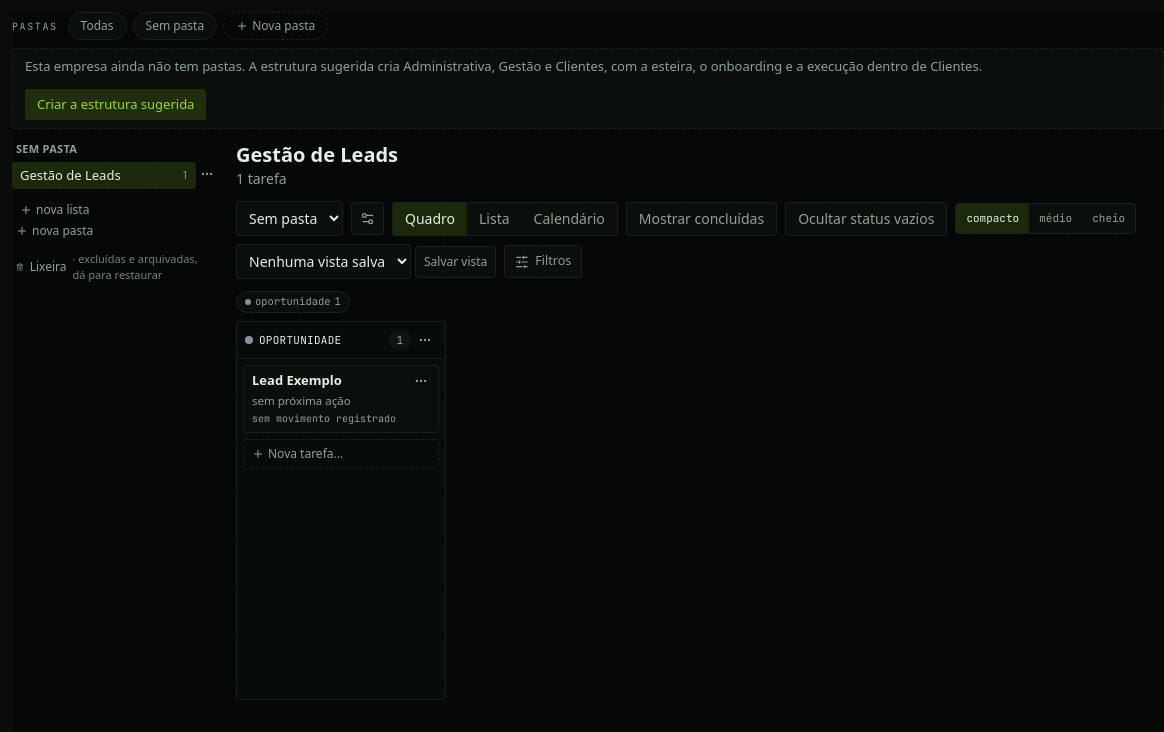
campo moeda: o que aparece › a tabela mostra R$ 1.500,00, com espaço sem quebra depois do símbolo
Step 1. Click the button "Lista" → (494, 218), box [467,202,522,234]
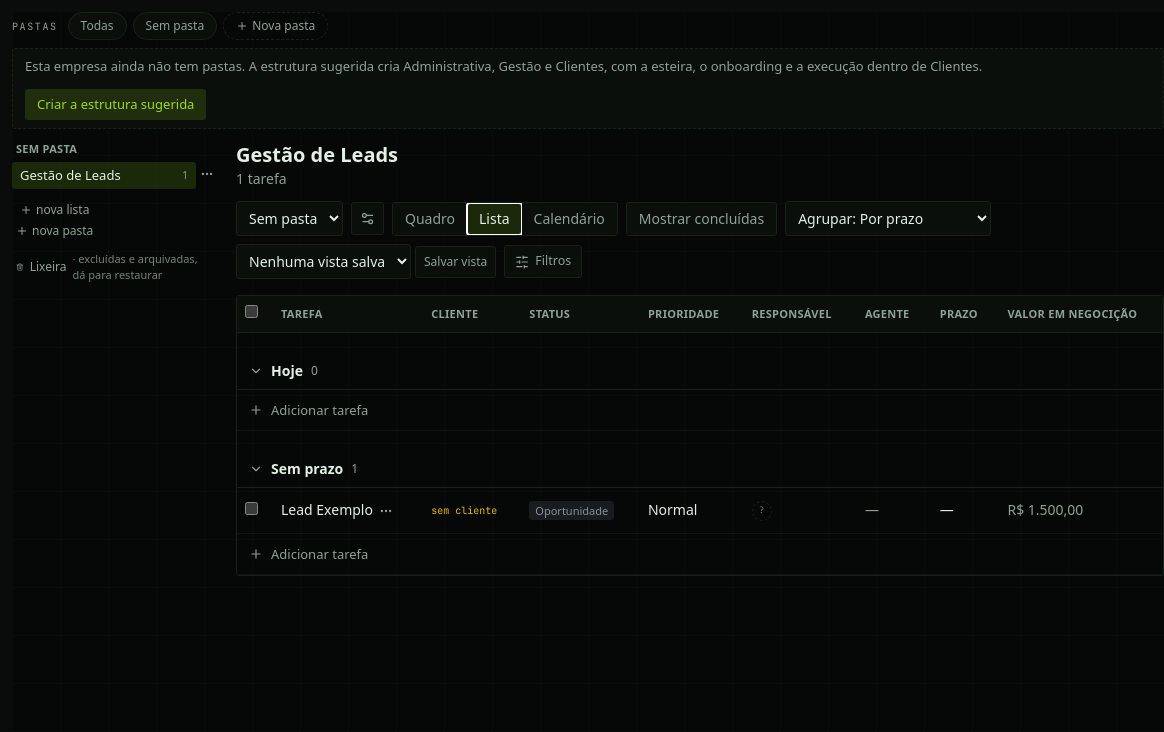
Now the cell named "R$ 1.500,00" is shown, box [995,488,1163,533]
